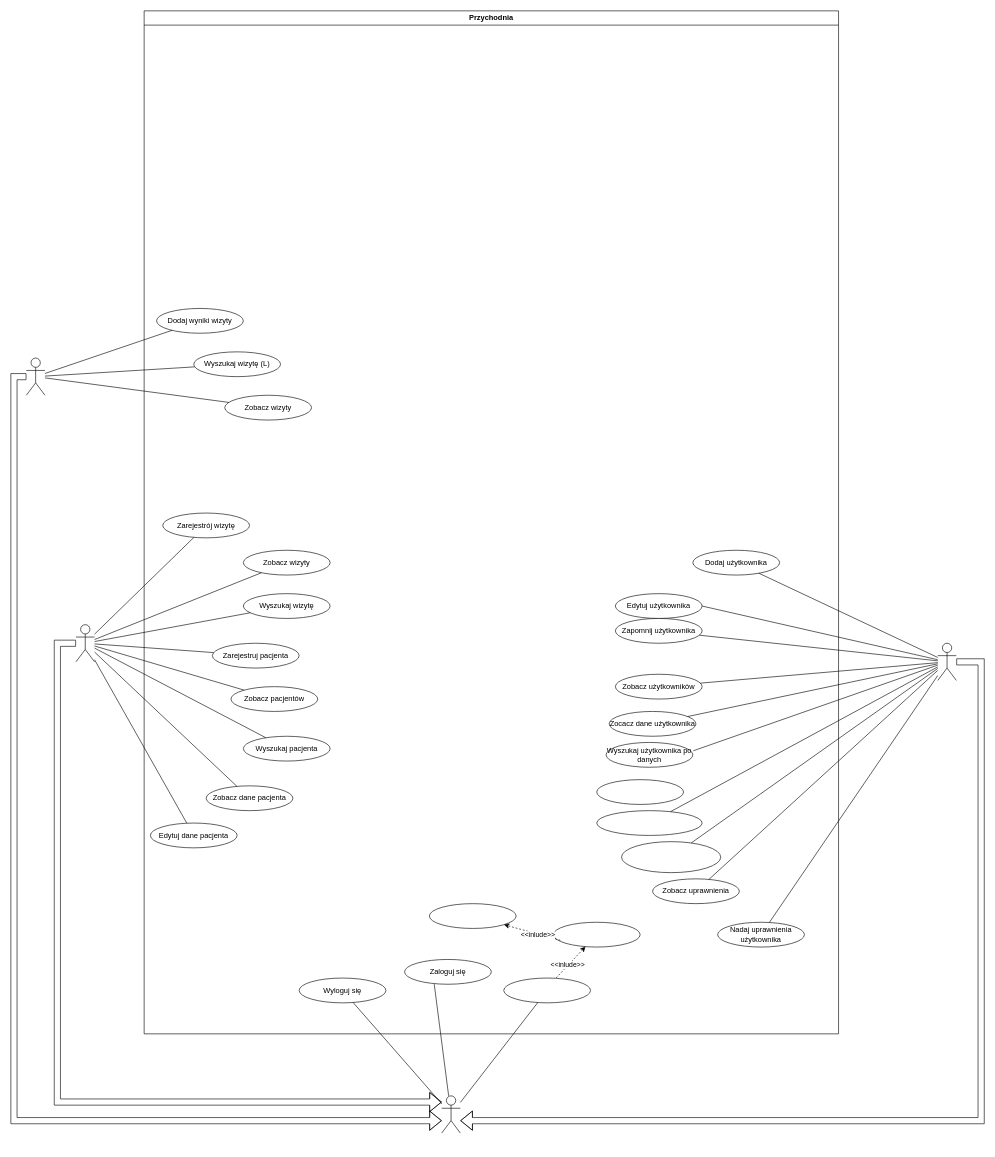
Image size: 995x1157. Some labels were removed from this diagram. The shapes that lost their labels are listed below. From the top down, each one's box as (x1, y1, x2, y2) in pixels, then its label:
(26, 357, 45, 395): Lekarz
(75, 624, 95, 662): Recepjonista
(937, 643, 956, 680): Administrator
(596, 779, 684, 804): Wyszukaj użytkownika po uprawnieniach
(596, 810, 702, 835): Zobacz zapomnianych użytkowników
(621, 841, 721, 873): Wyszukaj zapomnianego użytkownika po danych
(429, 903, 516, 928): Zmień hasło
(553, 922, 640, 947): Wygenerowanie nowego hasła
(503, 977, 591, 1003): Odzyskaj konto
(441, 1095, 460, 1133): Użytkownik
